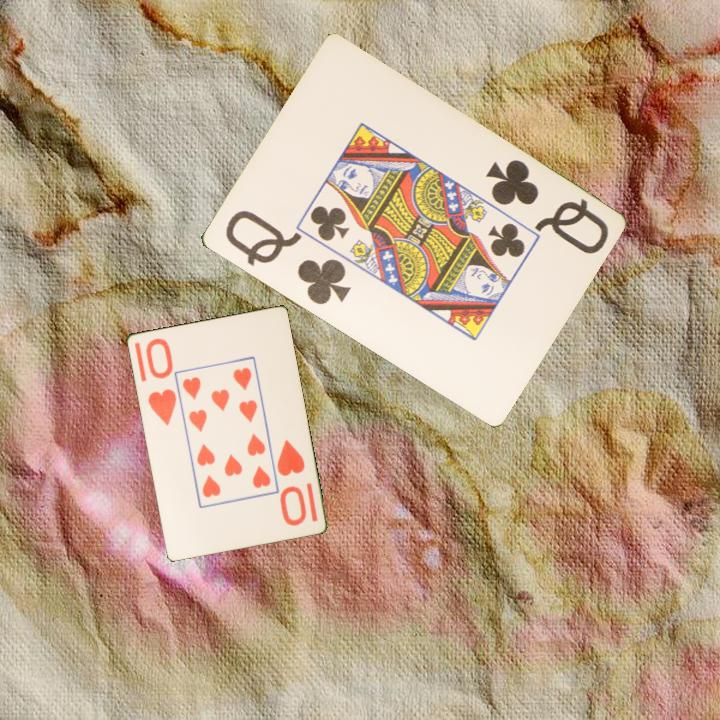10h: (142, 334, 179, 428), (273, 435, 309, 529)
Qc: (481, 155, 612, 258), (221, 206, 353, 308)
